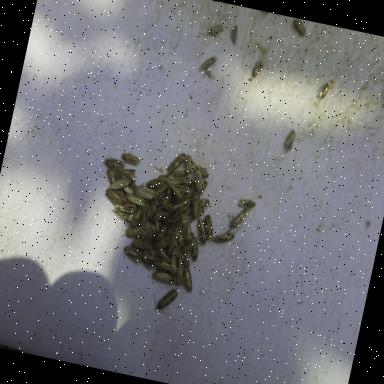pbw: (172, 250, 190, 286), (184, 230, 203, 262), (225, 205, 247, 230), (193, 216, 211, 246), (166, 195, 190, 217), (110, 172, 136, 192), (167, 148, 187, 174), (198, 51, 220, 74), (106, 204, 134, 222), (317, 74, 335, 100), (137, 250, 160, 270), (213, 225, 236, 245), (103, 166, 122, 190), (282, 126, 298, 154), (179, 266, 196, 292), (130, 206, 148, 230), (124, 190, 148, 208), (189, 193, 205, 220), (189, 191, 211, 210), (122, 244, 144, 263), (132, 184, 158, 200), (190, 168, 206, 194), (130, 238, 156, 254), (170, 222, 186, 248), (103, 187, 126, 205), (201, 213, 217, 238), (144, 170, 166, 188), (136, 216, 158, 234), (124, 222, 146, 240), (103, 154, 127, 170), (154, 231, 171, 253), (146, 198, 162, 220), (120, 150, 142, 166), (167, 248, 180, 275), (151, 269, 176, 283), (175, 174, 198, 189), (166, 183, 186, 200), (190, 162, 210, 179), (163, 211, 184, 227), (140, 226, 156, 246), (116, 200, 138, 214), (182, 154, 196, 175), (290, 20, 308, 36), (156, 247, 174, 263), (120, 176, 140, 190), (250, 58, 264, 78), (195, 178, 208, 199), (179, 184, 195, 201), (207, 22, 224, 38), (237, 196, 256, 210), (120, 165, 138, 179), (182, 222, 194, 242), (156, 184, 170, 201), (158, 198, 174, 212), (166, 232, 176, 254), (156, 207, 171, 221), (228, 25, 239, 44), (174, 232, 184, 252), (164, 171, 178, 185), (156, 175, 172, 187), (183, 237, 194, 254), (156, 224, 166, 242), (156, 260, 172, 271), (160, 192, 172, 206), (178, 243, 192, 255), (150, 210, 160, 226), (160, 211, 172, 224), (152, 218, 162, 232), (169, 207, 179, 220), (167, 224, 177, 237), (176, 210, 184, 224), (182, 214, 193, 224), (161, 224, 169, 237), (144, 197, 150, 210), (159, 219, 165, 228)
